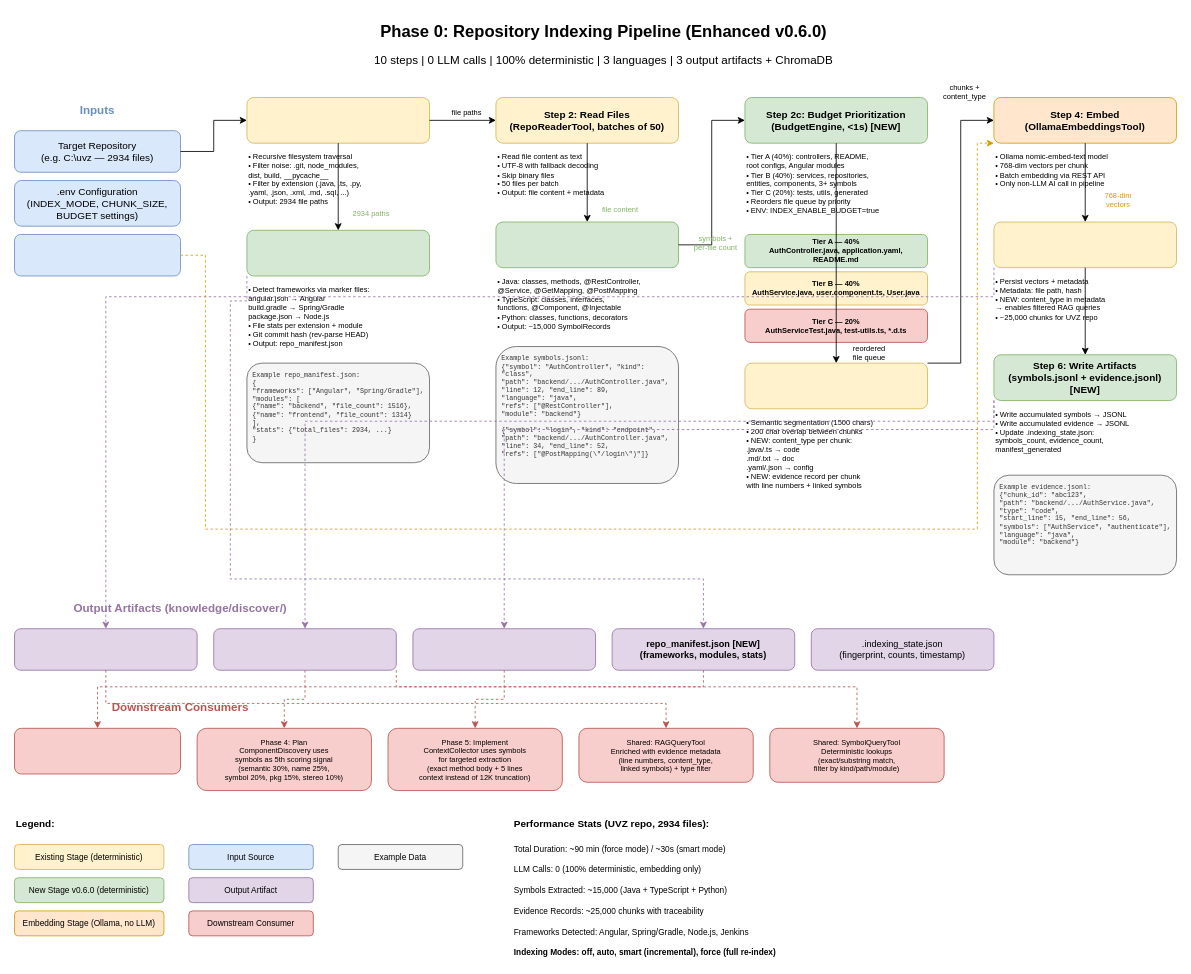
This 1191x974 diagram has some shape labels left out. Each missing label, with the centre of its shape:
chroma.sqlite3 (~25,000 vectors + content_type): pixel 105 649
evidence.jsonl [NEW] (~25,000 evidence records): pixel 504 649
Ollama Server (nomic-embed-text model): pixel 97 255
Phase 1: Extract CollectorOrchestrator uses repo_manifest.json: pixel 97 750
Step 1: Discover Files (RepoDiscoveryTool, <1s): pixel 338 120
Step 1b: Build Manifest (ManifestBuilder, <1s) [NEW]: pixel 338 252
Step 2b: Extract Symbols (SymbolExtractor, per file) [NEW]: pixel 587 244
Step 3: Chunk (ChunkerTool, enhanced): pixel 836 385
Step 5: Store in ChromaDB (ChromaIndexTool, enhanced): pixel 1085 244
symbols.jsonl [NEW] (~15,000 symbol records): pixel 304 649
